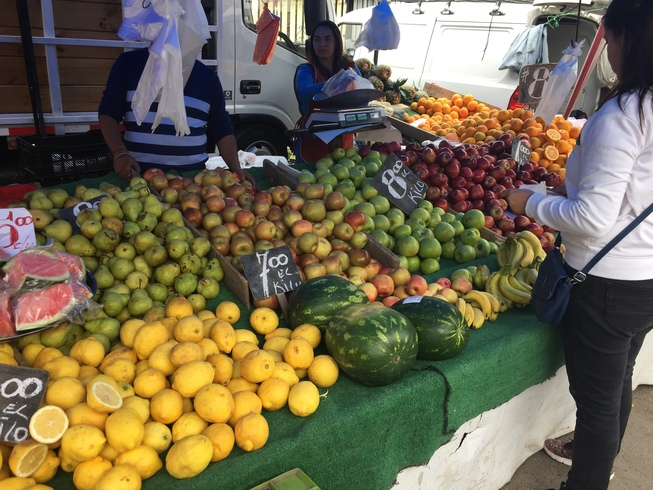precio: (236, 242, 316, 309), (1, 354, 56, 448), (372, 149, 435, 222), (58, 190, 128, 246), (1, 205, 41, 270), (510, 133, 536, 173)
